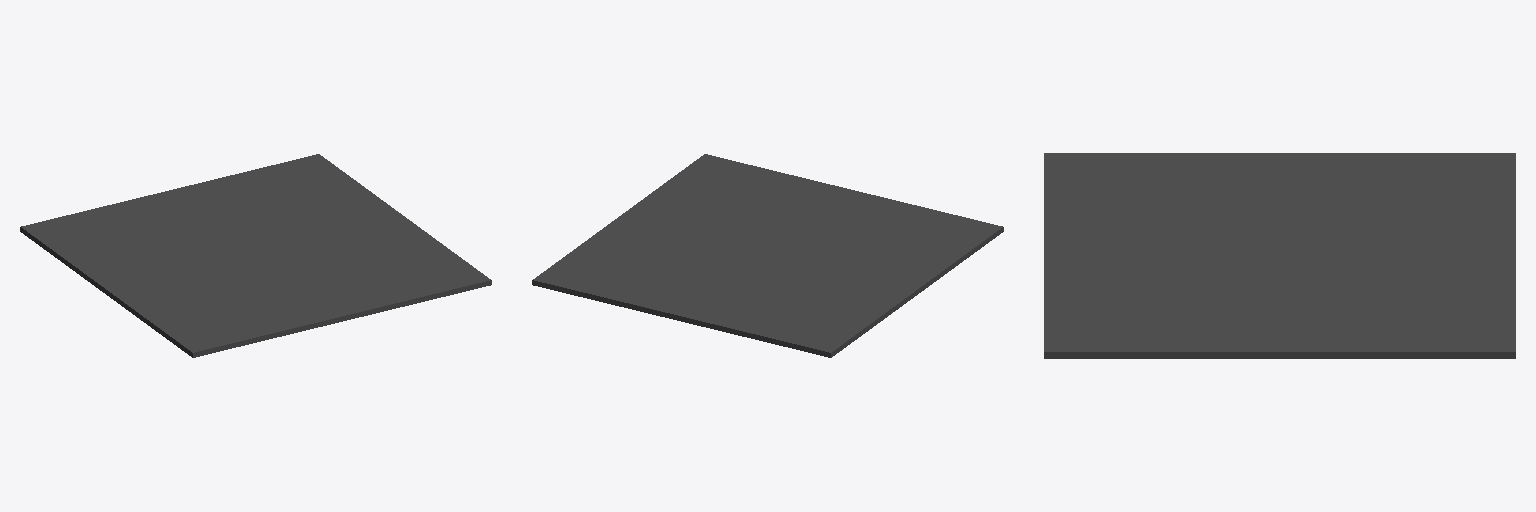
URDF robot description (flat_terrain):
<?xml version="1.0"?>
<robot name="flat_terrain">
  <link name="base_link">
    <visual>
      <origin xyz="0 0 -0.05" rpy="0 0 0" />
      <geometry>
        <box size="6 6 0.1" />
      </geometry>
      <material name="desert sand">
        <color rgba="0.35 0.35 0.35 1" />
      </material>
    </visual>
    <collision>
      <origin xyz="0 0 -0.05" rpy="0 0 0" />
      <geometry>
        <box size="6 6 0.1" />
      </geometry>
    </collision>
  </link>
</robot>

--- Facts derived from the render (not from the file) ---
The picture shows the robot from 3 angles, left to right: view 1: azimuth 30°, elevation 25°; view 2: azimuth 150°, elevation 25°; view 3: azimuth 270°, elevation 25°; orthographic projection.
Model flat_terrain with 1 links and 0 joints (none), rooted at base_link, posed all joints at 0.
Links seen in each view (by area): view 1: base_link; view 2: base_link; view 3: base_link.
Boxes of the visible links, x1,y1,x2,y2 form: base_link: [20, 154, 491, 357]; base_link: [532, 154, 1003, 357]; base_link: [1044, 153, 1515, 358].
Bounding box of the posed robot: 6 × 6 × 0.1 m (x, y, z).
Geometry: primitives only (box / cylinder / sphere), no mesh files.